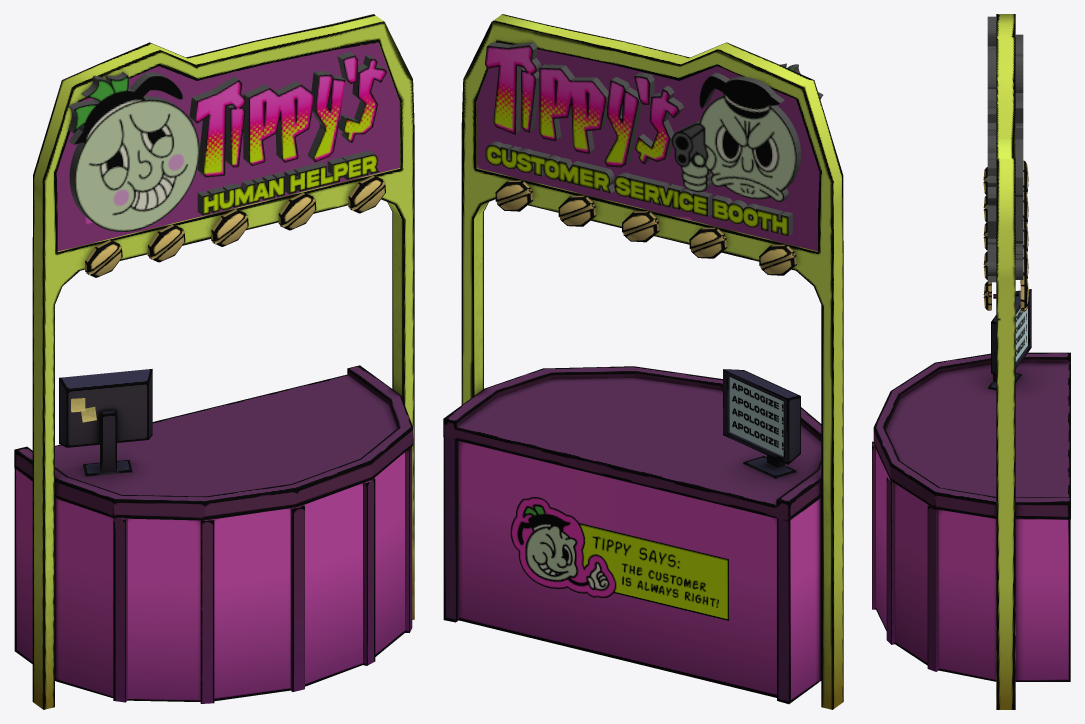
The model's file is Human Helper Counter.glb.
The picture shows the model from 3 angles, left to right: view 1: azimuth 30°, elevation 25°; view 2: azimuth 150°, elevation 25°; view 3: azimuth 270°, elevation 25°; orthographic projection. The views are drawn at different scales.
Parts seen in each view (by area): view 1: counter, arch, tabletop, Cube, arch.001, computer, pSphere1; view 2: counter, arch, tabletop, Cube.001, arch.001, Cube.002, pSphere1, computer, computer.001; view 3: counter, tabletop, arch, Cube, Cube.001, pSphere1, computer, computer.001.
Boxes of the visible parts, x1,y1,x2,y2 form: counter: (14, 446, 412, 703); arch: (32, 14, 414, 709); tabletop: (14, 365, 412, 520); Cube: (68, 52, 386, 231); arch.001: (56, 43, 399, 251); computer: (59, 369, 152, 476); pSphere1: (85, 175, 385, 277); counter: (443, 437, 821, 704); arch: (461, 14, 843, 709); tabletop: (443, 366, 821, 521); Cube.001: (485, 42, 801, 236); arch.001: (476, 42, 819, 251); Cube.002: (510, 497, 728, 620); pSphere1: (495, 180, 796, 275); computer: (723, 369, 800, 478); computer.001: (729, 377, 783, 456); counter: (872, 441, 1070, 681); tabletop: (873, 352, 1070, 519); arch: (996, 14, 1015, 709); Cube: (987, 16, 996, 282); Cube.001: (1015, 34, 1023, 279); pSphere1: (983, 160, 1028, 311); computer: (988, 289, 1031, 390); computer.001: (1015, 308, 1027, 361).
Bounding box in the file's own units: 0.1326 × 0.2156 × 0.0691.
11 materials, 11 textured.
